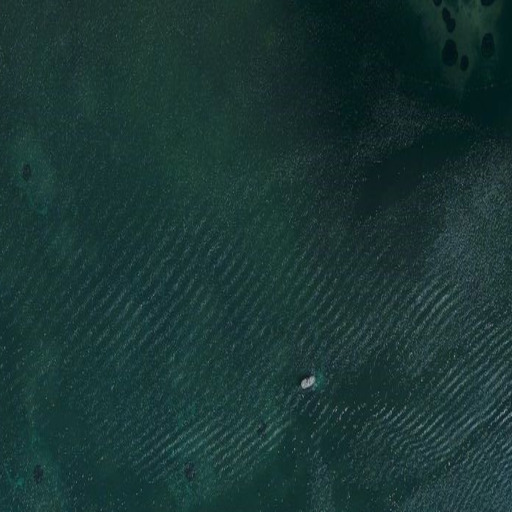ship: (298, 373, 318, 391)
